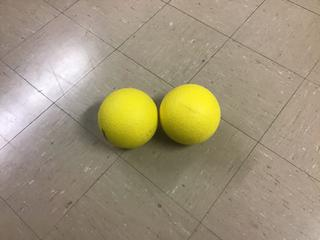power_cell: (155, 83, 221, 145), (95, 87, 159, 150)
